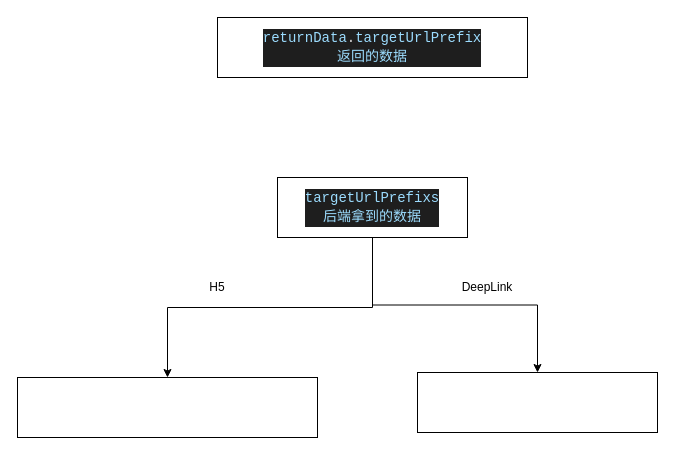
Some shapes in this 675 by 455 pixel diagram are drawn without their labels. The shapes that lost their labels are listed below. From the top down, each one's centre as x and y in pixels, then its label:
At point 167,407: "targetUrlPrefixOption urlTag列表".
At point 537,402: "jingdongUrlPrefixOption".
